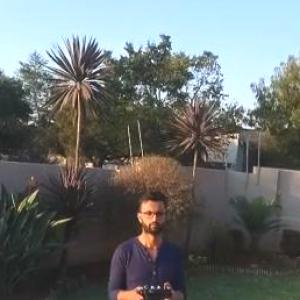follow: (103, 186, 190, 299)
